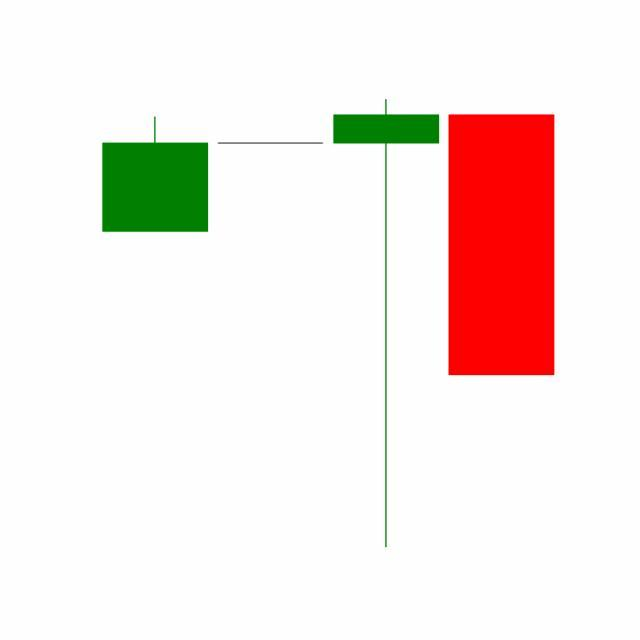Dragonfly Doji: (329, 95, 445, 553)
